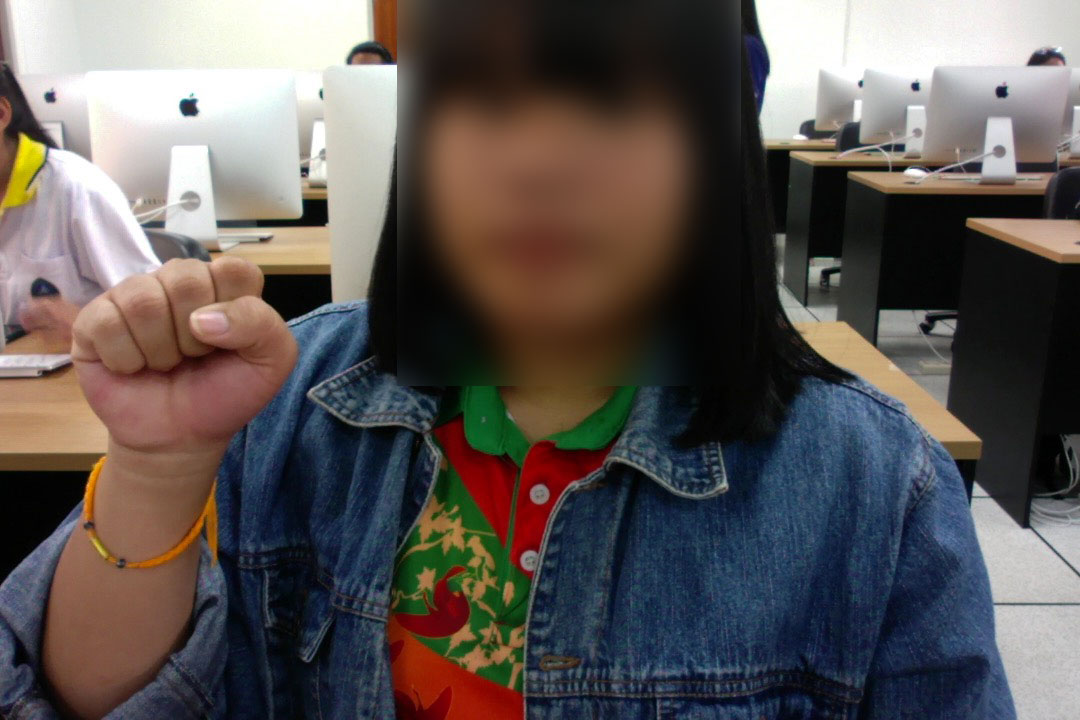sor: (59, 241, 306, 457)
